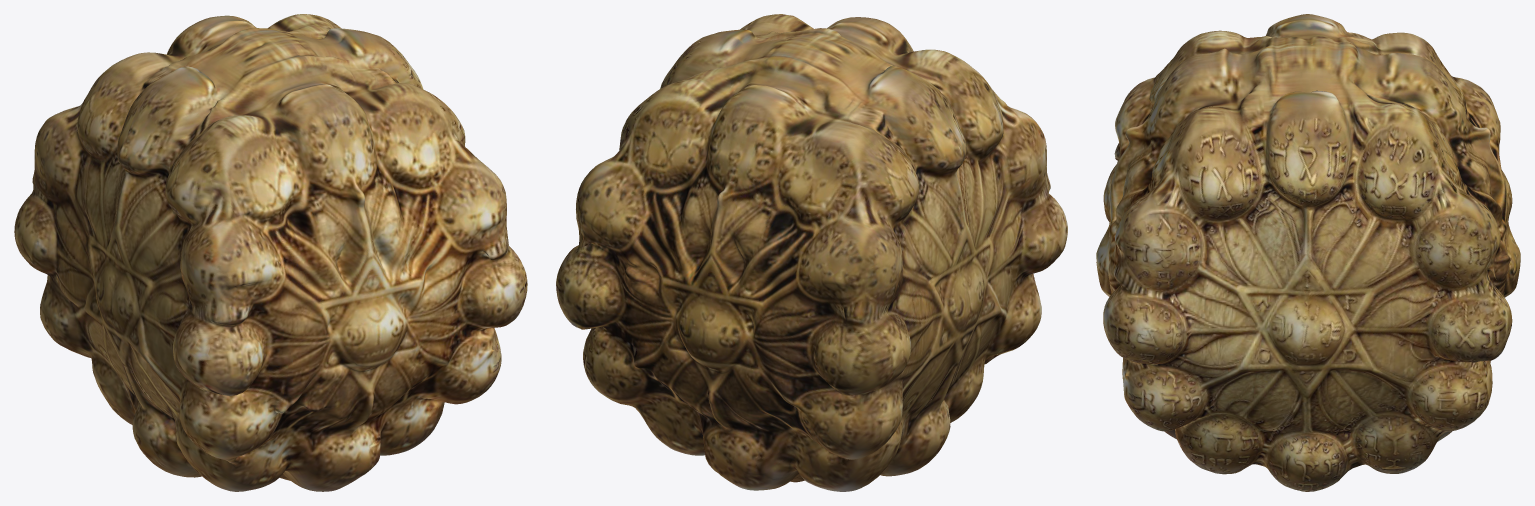
Rendered from tree_of_life_3d.glb.
3 views of the same model, side by side, from view 1: azimuth 30°, elevation 25°; view 2: azimuth 150°, elevation 25°; view 3: azimuth 270°, elevation 25° (orthographic).
Visible parts, largest first — view 1: tripo_node_9c78662c-76e7-4f0b-9d11-58fa3a267a9e; view 2: tripo_node_9c78662c-76e7-4f0b-9d11-58fa3a267a9e; view 3: tripo_node_9c78662c-76e7-4f0b-9d11-58fa3a267a9e.
Boxes of the visible parts, left/top/right/bottom form: tripo_node_9c78662c-76e7-4f0b-9d11-58fa3a267a9e: left=14, top=14, right=527, bottom=491; tripo_node_9c78662c-76e7-4f0b-9d11-58fa3a267a9e: left=556, top=14, right=1067, bottom=491; tripo_node_9c78662c-76e7-4f0b-9d11-58fa3a267a9e: left=1096, top=14, right=1520, bottom=491.
Size of the model in its own units: 0.5807 by 0.6869 by 0.6344.
Materials: 1 (1 with a texture image).
